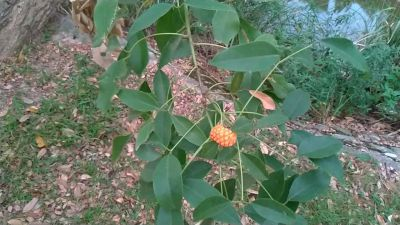eggs: (209, 119, 241, 146)
